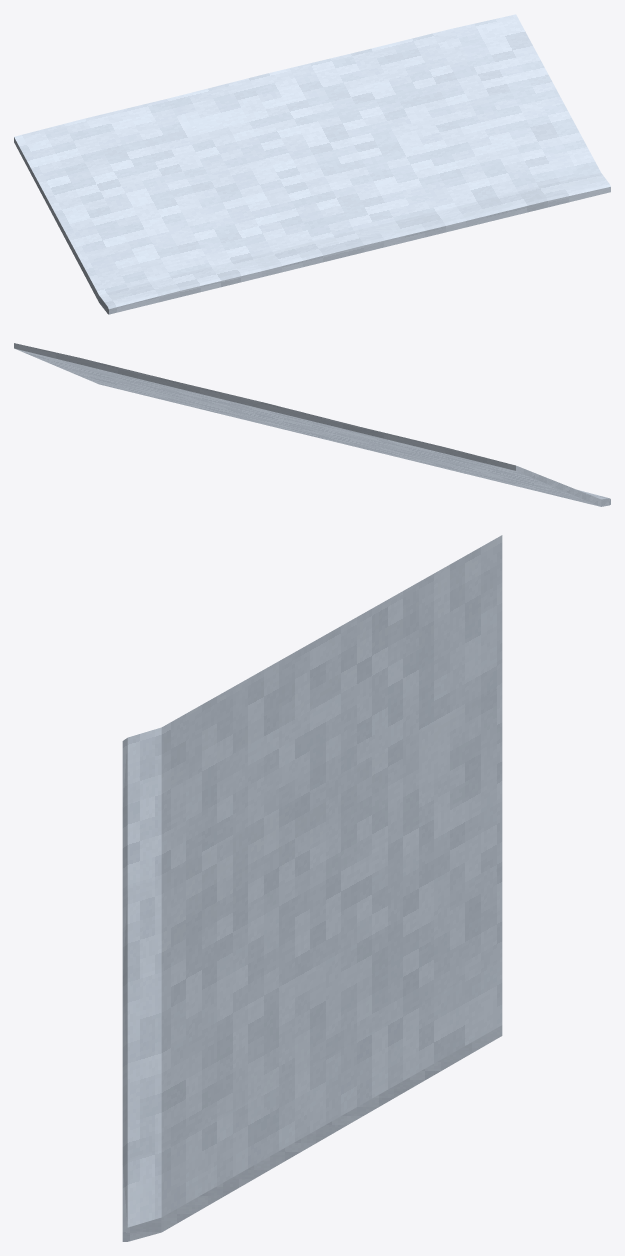
File: snow_roof_blanket.glb
3 renders of one model, top to bottom at view 1: azimuth 30°, elevation 25°; view 2: azimuth 150°, elevation 25°; view 3: azimuth 270°, elevation 25°, orthographic. The views are drawn at different scales.
Parts seen in each view (by area): view 1: snow_roof_blanket; view 2: snow_roof_blanket; view 3: snow_roof_blanket.
Part boxes in pixels (bbox=[...]): snow_roof_blanket: bbox=[14, 14, 610, 314]; snow_roof_blanket: bbox=[14, 343, 610, 506]; snow_roof_blanket: bbox=[122, 535, 502, 1241].
Bounding box in the file's own units: 6.81 × 1.43 × 2.23.
Materials: 1 (1 with a texture image).
